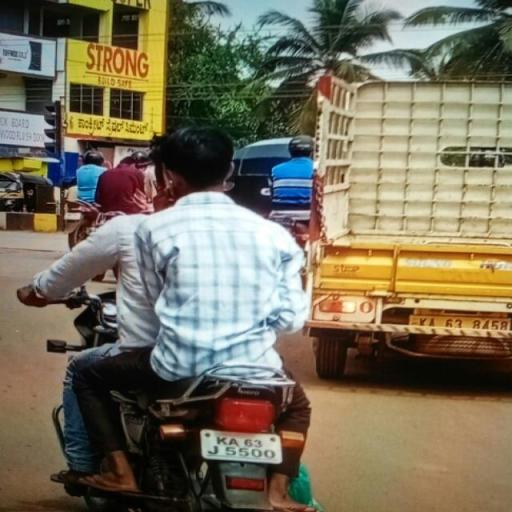bike: (18, 121, 337, 512)
numberplate: (200, 427, 282, 463)
withouthelmet: (158, 128, 235, 190)
